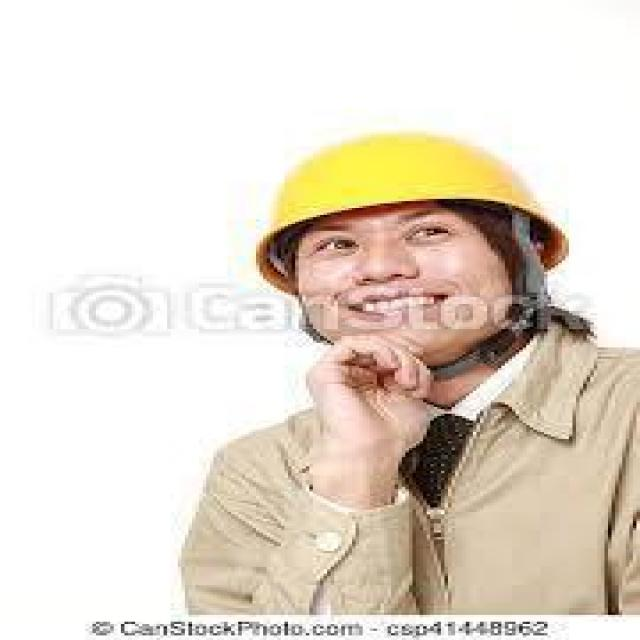hat: (256, 130, 569, 256)
